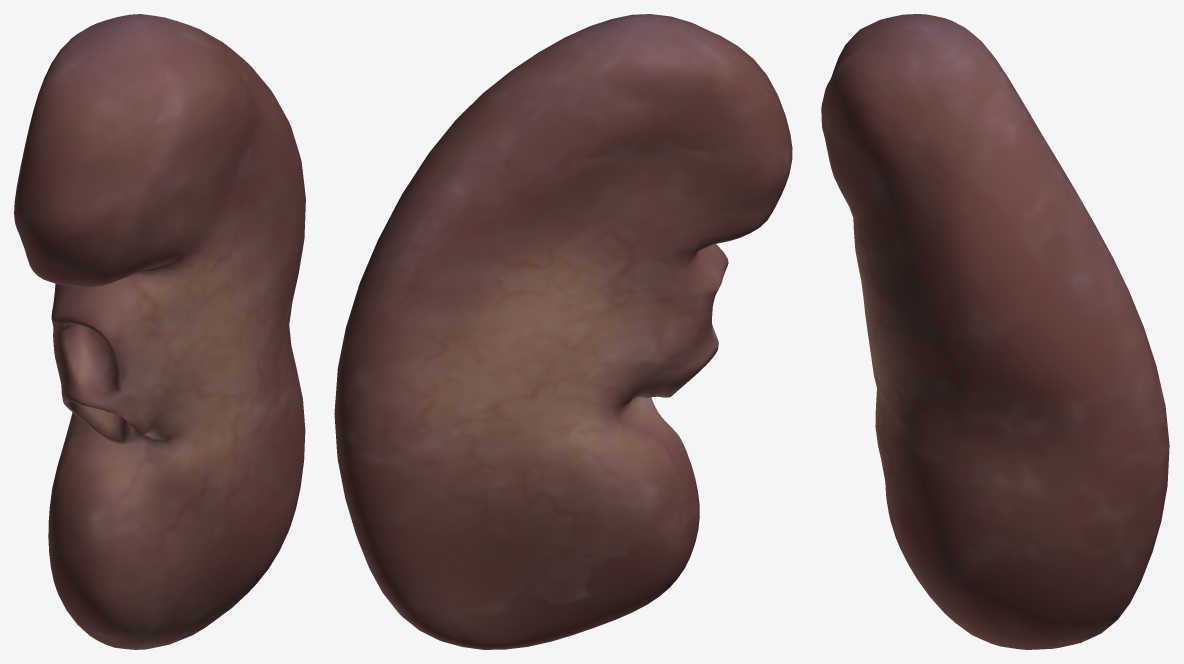
Rendered from 7e4936d4-fab9-41b8-a49d-7d4fa90c3194.fbx.
3 views of the same model, side by side, from view 1: azimuth 30°, elevation 25°; view 2: azimuth 150°, elevation 25°; view 3: azimuth 270°, elevation 25° (orthographic). The views are drawn at different scales.
Visible parts, largest first — view 1: kidney_female_kidney_L-hi; view 2: kidney_female_kidney_L-hi; view 3: kidney_female_kidney_L-hi.
Part boxes in pixels (x1,y1,x2,y2): kidney_female_kidney_L-hi: (14, 14, 305, 649); kidney_female_kidney_L-hi: (334, 14, 792, 649); kidney_female_kidney_L-hi: (821, 14, 1169, 649).
Size of the model in its own units: 4.71 by 8.27 by 4.49.
Materials: 1 (1 with a texture image).
